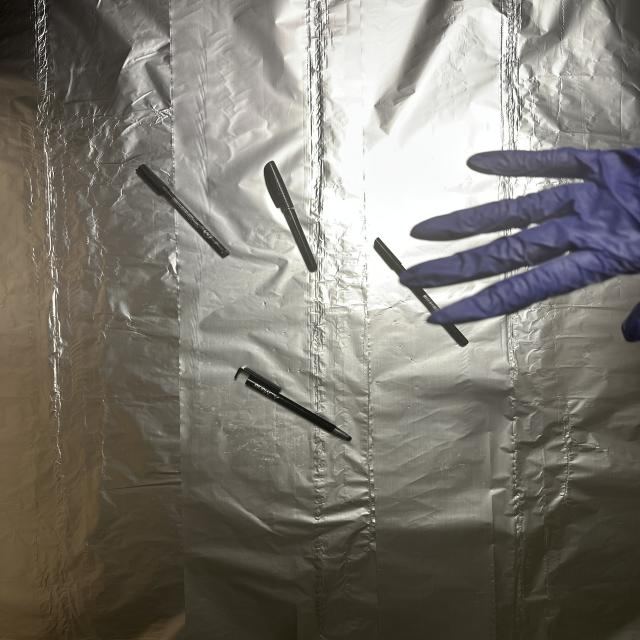gloves_contaminated: (400, 147, 640, 325)
